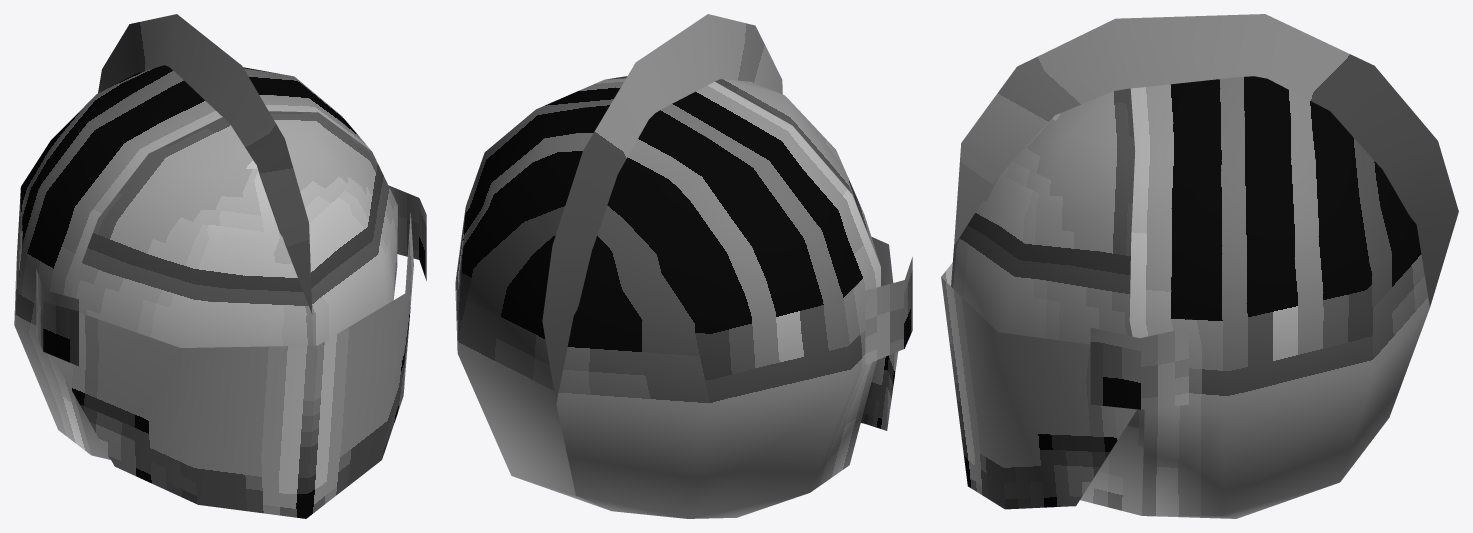
3 renders of one model, left to right at view 1: azimuth 30°, elevation 25°; view 2: azimuth 150°, elevation 25°; view 3: azimuth 270°, elevation 25°, orthographic. The views are drawn at different scales.
Visible parts, largest first — view 1: code_head50; view 2: code_head50; view 3: code_head50.
Boxes of the visible parts, x1,y1,x2,y2 form: code_head50: (14,14,426,518); code_head50: (455,14,912,518); code_head50: (941,14,1458,518).
Bounding box in the file's own units: 0.8301 × 0.8823 × 0.8604.
1 material, 1 textured.
